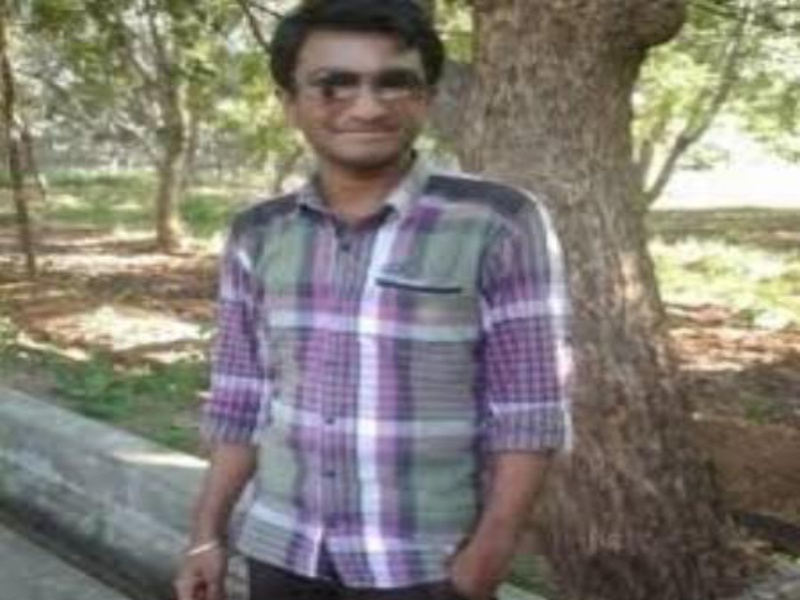TsisyArotava: (250, 1, 459, 196)
